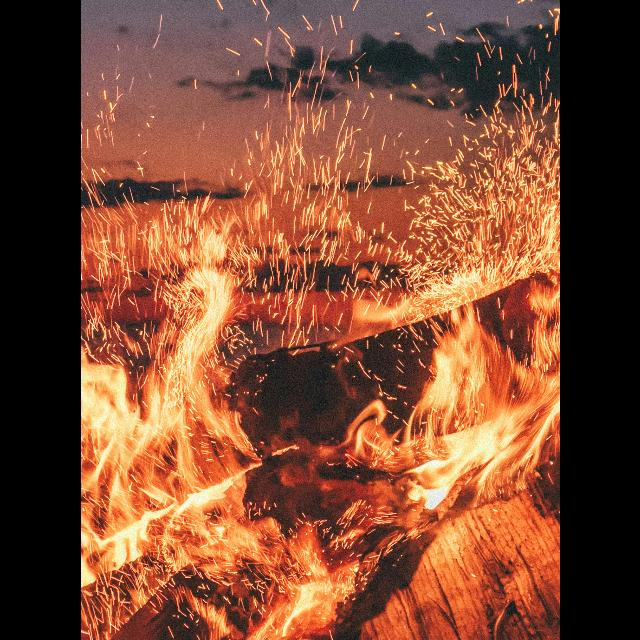fire: (80, 97, 560, 640)
